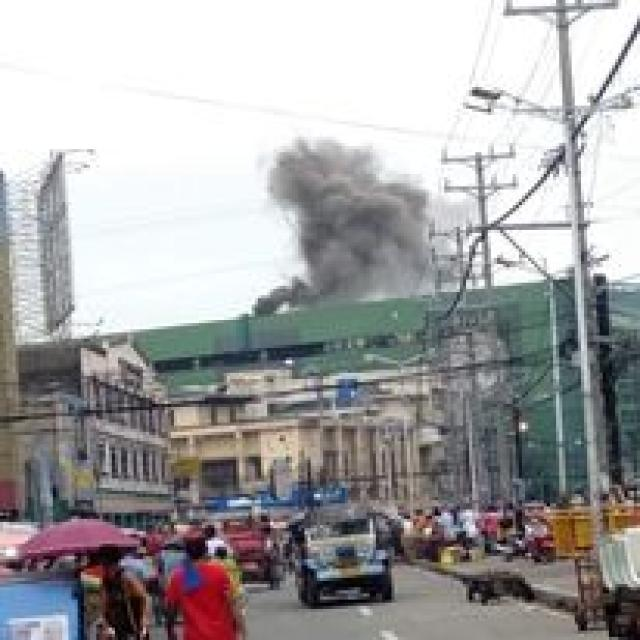Smoke: (246, 144, 444, 312)
